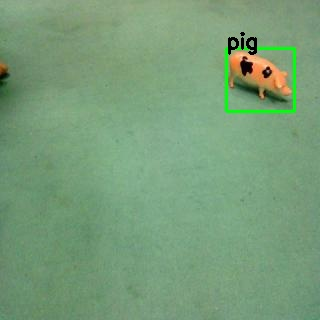pig: (227, 50, 299, 108)
